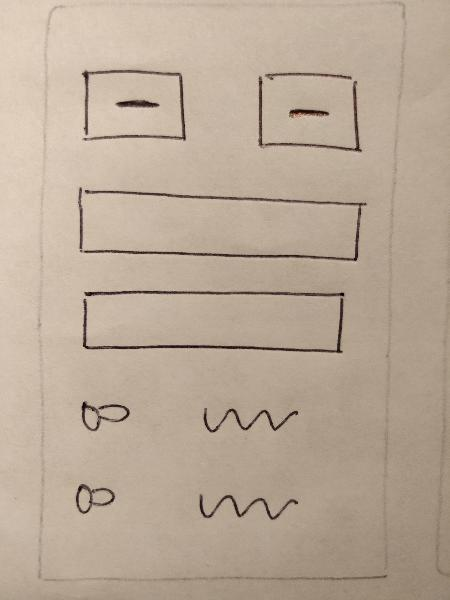button: (76, 59, 195, 157), (247, 63, 366, 161)
switch: (68, 394, 137, 439), (67, 474, 136, 519)
text: (190, 397, 303, 444), (191, 482, 304, 529)
text_input: (72, 180, 370, 272), (77, 281, 348, 366)
